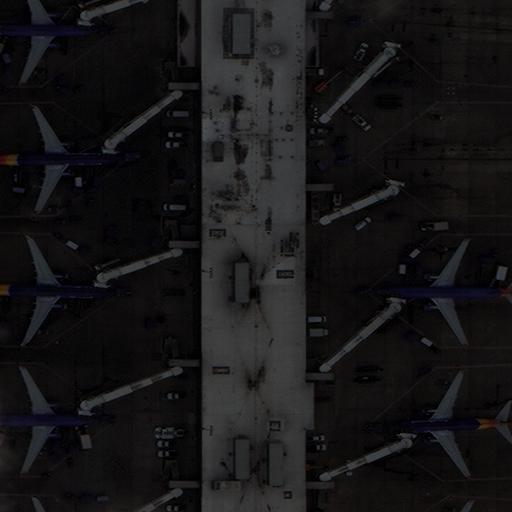Medium Civil Transport: (374, 241, 511, 345), (386, 372, 511, 478), (0, 106, 122, 212), (0, 238, 112, 346), (0, 367, 102, 473), (0, 0, 101, 84)
